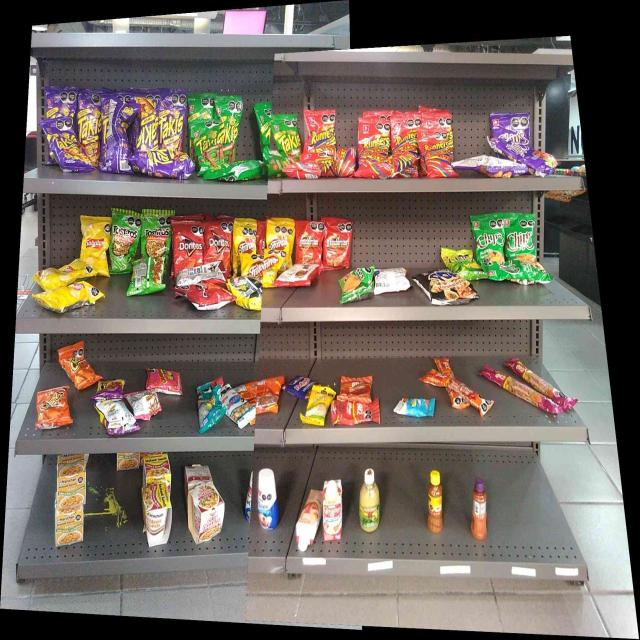bitzAlmendras: (499, 357, 574, 416), (396, 398, 434, 418)
bitzEnchilado90: (333, 401, 380, 424), (339, 376, 371, 397)
bitzEnchilado95: (468, 388, 494, 418), (434, 357, 454, 376)
bokadosCacahuates: (284, 378, 309, 398)
botaneraChilito: (428, 471, 443, 533)
cheetosFlaminHot: (98, 382, 122, 399)
cheetosOriginal: (37, 390, 68, 426), (70, 346, 90, 388)
chipsFuego: (492, 114, 530, 143), (521, 146, 556, 176)
chipsJalapeno: (488, 265, 550, 284), (507, 218, 535, 260), (480, 218, 505, 263)
chipsPapatinas: (455, 249, 478, 279)
churrumais: (150, 368, 182, 395)
delPrimoSalsa: (360, 469, 379, 532)
doritosNacho: (172, 221, 202, 261), (205, 222, 231, 260), (184, 285, 226, 308)
fritosLimon: (268, 221, 292, 248), (234, 225, 256, 253), (264, 250, 278, 286), (242, 254, 262, 279)
leoCacahuates: (223, 387, 244, 426)
maruchanPollo: (58, 458, 86, 506), (56, 512, 83, 542)
maruchanRes: (142, 486, 168, 544), (143, 455, 171, 483)
nestleCarnation: (323, 478, 342, 542), (302, 490, 320, 548)
nestleLechera: (258, 471, 278, 528)
nissinRes: (188, 488, 223, 539)
popKarameladas: (429, 282, 475, 306), (417, 266, 454, 280)
productoAtras: (109, 98, 131, 172), (463, 155, 513, 178), (178, 264, 225, 283), (139, 259, 164, 290), (238, 278, 262, 310), (102, 404, 128, 433), (256, 380, 278, 413), (376, 268, 406, 290), (289, 262, 314, 286), (235, 162, 262, 181), (131, 392, 148, 419)
rancheritos: (324, 222, 349, 268), (296, 222, 322, 260)
rufflesQueso: (339, 270, 372, 300)
runners: (420, 130, 447, 177), (360, 119, 390, 159), (308, 112, 336, 151), (392, 119, 418, 151), (325, 152, 355, 175)
sabritasOriginal: (40, 282, 100, 307), (84, 217, 107, 263), (44, 262, 82, 280)
semillasCalabaza: (310, 385, 329, 426)
semillasGirasol: (197, 384, 218, 422)
tajinDulce: (471, 478, 487, 538)
takisFuego: (134, 153, 191, 181), (48, 122, 78, 172), (79, 95, 101, 151), (136, 96, 158, 150), (160, 99, 183, 150), (46, 90, 76, 118)
takisOriginal: (198, 121, 222, 176), (276, 117, 300, 159), (224, 97, 236, 160)
tostitos: (112, 209, 135, 273), (143, 209, 168, 254)
